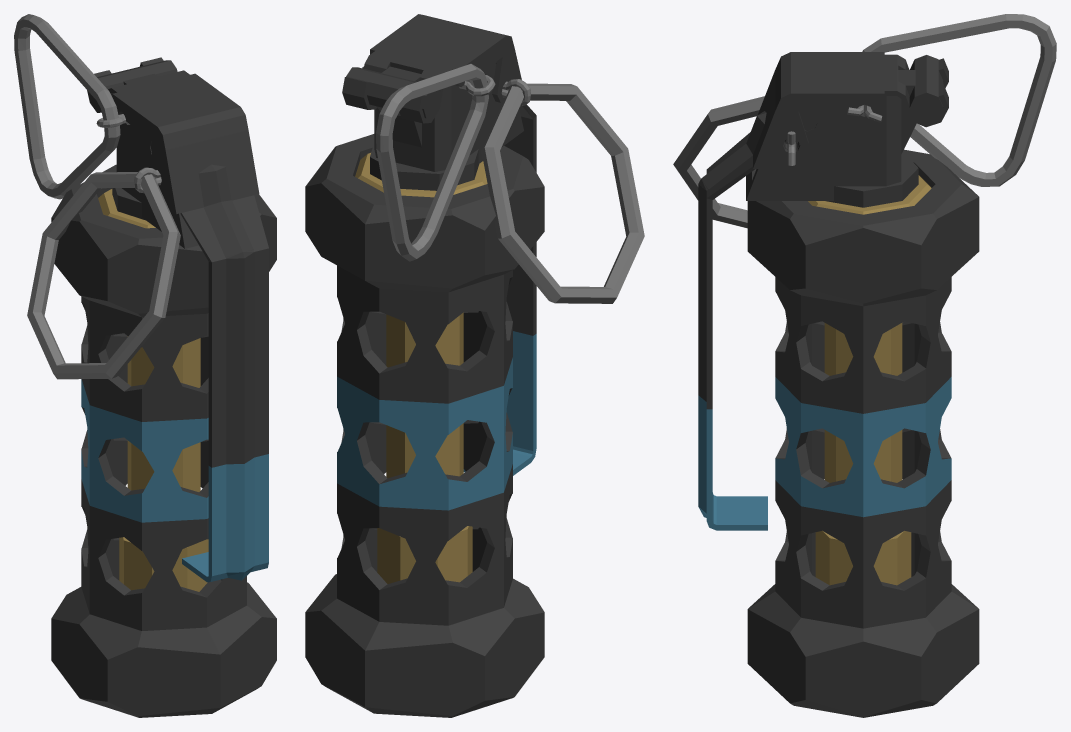
Rendered from M84_FlashGrenade.fbx.
3 renders of one model, left to right at view 1: azimuth 30°, elevation 25°; view 2: azimuth 150°, elevation 25°; view 3: azimuth 270°, elevation 25°, orthographic. The views are drawn at different scales.
Parts seen in each view (by area): view 1: M84_Body, M84_Lever, M84_Pin, M84_Pin2; view 2: M84_Body, M84_Lever, M84_Pin, M84_Pin2; view 3: M84_Body, M84_Lever, M84_Pin2, M84_Pin.
Part boxes in pixels (x1,y1,x2,y2): M84_Body: (51, 60, 276, 717); M84_Lever: (87, 57, 268, 582); M84_Pin: (27, 167, 180, 379); M84_Pin2: (14, 14, 127, 199); M84_Body: (305, 61, 544, 717); M84_Lever: (342, 14, 536, 475); M84_Pin: (481, 79, 644, 303); M84_Pin2: (362, 64, 495, 261); M84_Body: (746, 55, 979, 717); M84_Lever: (698, 52, 948, 530); M84_Pin2: (847, 14, 1056, 186); M84_Pin: (673, 96, 795, 228).
Size of the model in its own units: 0.0548 by 0.1406 by 0.0769.
Materials: 1 (1 with a texture image).
